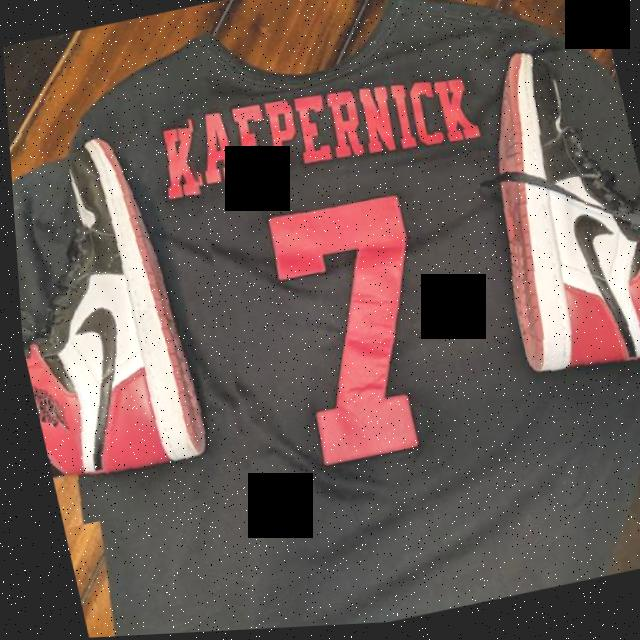shoe: (6, 96, 266, 530), (453, 17, 640, 434)
